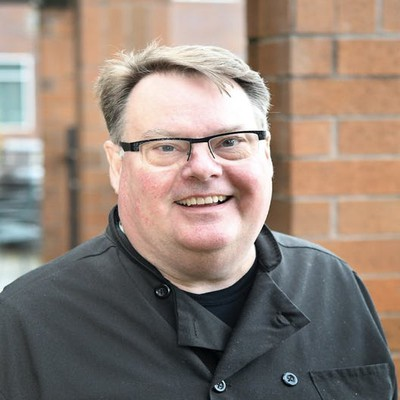eywear: (91, 96, 287, 174)
